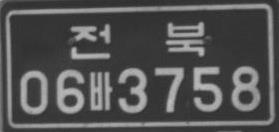0: (18, 69, 48, 115)
3: (118, 66, 148, 113)
5: (192, 66, 222, 112)
6: (55, 67, 85, 114)
7: (153, 65, 185, 113)
8: (230, 65, 261, 112)
바: (89, 71, 113, 111)
전북_D: (69, 20, 205, 60)
